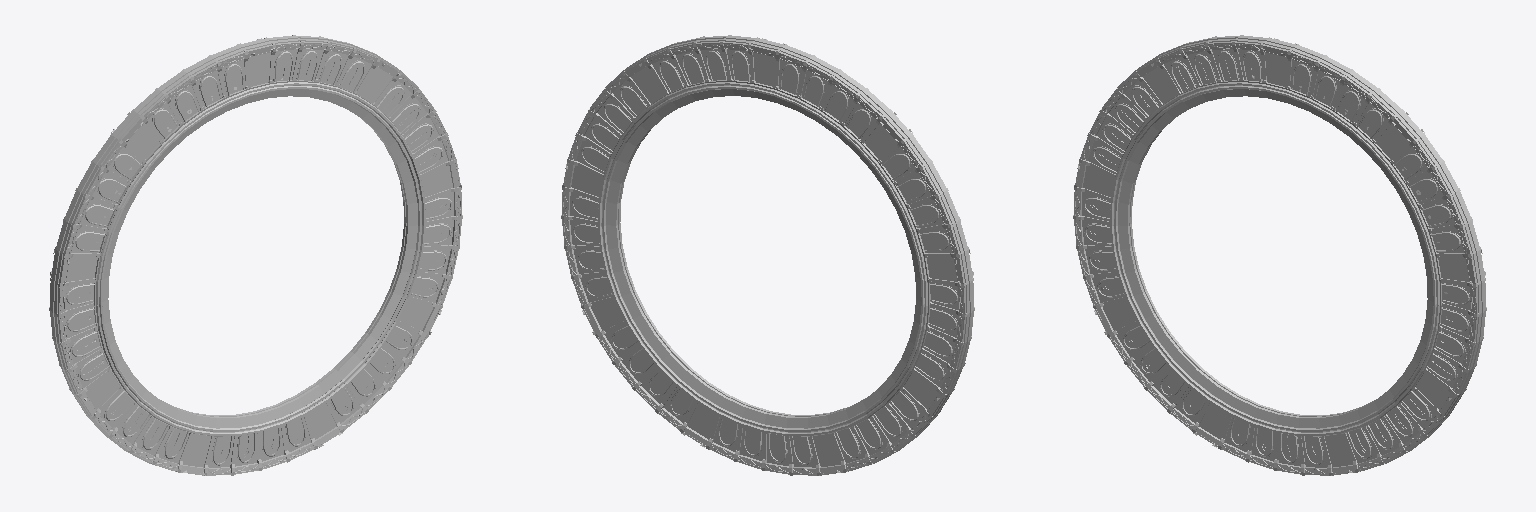
File: UniverseGate.obj
The picture shows the model from 3 angles: view 1: azimuth 30°, elevation 25°; view 2: azimuth 150°, elevation 25°; view 3: azimuth 330°, elevation 25°; orthographic projection.
Parts seen in each view (by area): view 1: UniverseGate; view 2: UniverseGate; view 3: UniverseGate.
Part boxes in pixels (bbox=[...]): UniverseGate: bbox=[49, 35, 462, 475]; UniverseGate: bbox=[561, 35, 974, 475]; UniverseGate: bbox=[1073, 35, 1486, 475].
Size of the model in its own units: 277 by 277 by 17.67.